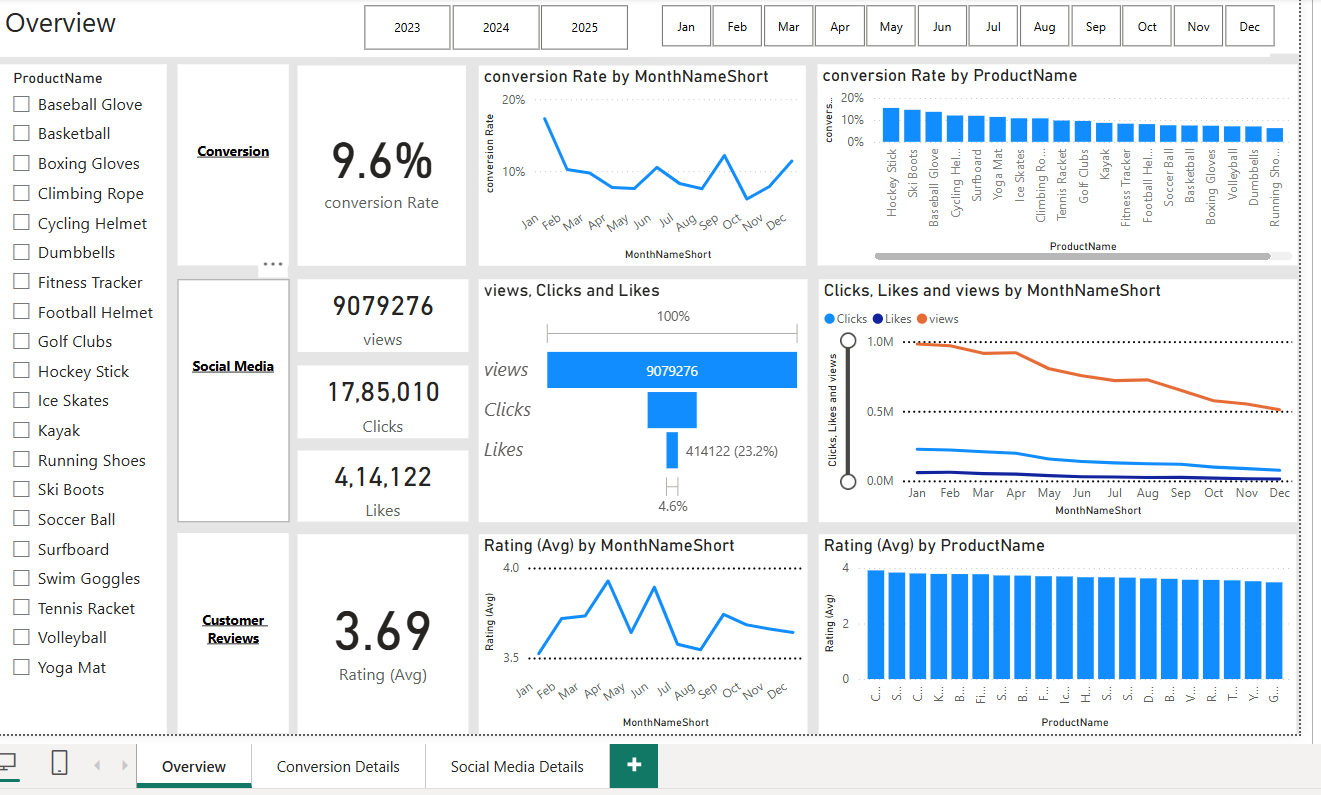

The dashboard page shown, as its layout file describes it:
{"tool":"powerbi","page":{"name":"Overview","canvas":[1280,720],"ordinal":0},"visuals":[{"type":"textbox","box":[9.3,0,1242.6,57.6],"z":0},{"type":"slicer","fields":{"Values":["products.ProductName"]},"box":[9.3,65.4,163.5,655.6],"z":1000},{"type":"textbox","box":[183.4,64.8,108.8,196.9],"z":2000},{"type":"textbox","box":[183.4,275.1,108.8,237.2],"z":3000},{"type":"textbox","box":[183.4,523.4,108.8,195.7],"z":4000},{"type":"card","fields":{"Values":["Calculations.conversion Rate"]},"box":[300.8,66,165.1,195.7],"z":5000},{"type":"card","fields":{"Values":["Calculations.views"]},"box":[300.8,275.1,167.5,70.9],"z":6000},{"type":"card","fields":{"Values":["Calculations.Clicks"]},"box":[300.8,359.5,167.5,70.9],"z":7000},{"type":"card","fields":{"Values":["Calculations.Likes"]},"box":[300.8,442.7,167.5,69.7],"z":8000},{"type":"card","fields":{"Values":["Calculations.Rating (Avg)"]},"box":[300.8,524.6,167.5,195.7],"z":9000},{"type":"slicer","fields":{"Values":["Calendar.Year"]},"box":[339.5,0,308.3,57.6],"z":10000},{"type":"slicer","fields":{"Values":["Calendar.MonthNameShort"]},"box":[630.7,0,649.3,54.5],"z":11000},{"type":"lineChart","fields":{"Y":["Calculations.conversion Rate"],"Category":["Calendar.MonthNameShort"]},"box":[478.1,66,320.4,195.7],"z":12000},{"type":"clusteredColumnChart","fields":{"Category":["products.ProductName"],"Y":["Calculations.conversion Rate"]},"box":[809.5,64.8,469.6,196.9],"z":13000},{"type":"lineChart","fields":{"Category":["Calendar.MonthNameShort"],"Y":["Calculations.Clicks","Calculations.Likes","Calculations.views"]},"box":[810.7,275.1,468.3,237.2],"z":14000},{"type":"funnel","fields":{"Y":["Calculations.views","Calculations.Clicks","Calculations.Likes"]},"box":[478.1,275.1,321.6,237.2],"z":15000},{"type":"lineChart","fields":{"Category":["Calendar.MonthNameShort"],"Y":["Calculations.Rating (Avg)"]},"box":[478.1,524.6,321.6,195.7],"z":16000},{"type":"clusteredColumnChart","fields":{"Category":["products.ProductName"],"Y":["Calculations.Rating (Avg)"]},"box":[810.7,524.6,467.1,195.7],"z":17000}]}

Visuals, with their boxes on the page's 1280x720 design canvas (x1, y1, x2, y2). These are canvas units, not pixel positions in the 1321x795 screenshot, which may show the page scaled, cropped or inside an application window:
textbox: box=[9, 0, 1252, 58]
slicer - products.ProductName: box=[9, 65, 173, 721]
textbox: box=[183, 65, 292, 262]
textbox: box=[183, 275, 292, 512]
textbox: box=[183, 523, 292, 719]
card - Calculations.conversion Rate: box=[301, 66, 466, 262]
card - Calculations.views: box=[301, 275, 468, 346]
card - Calculations.Clicks: box=[301, 360, 468, 430]
card - Calculations.Likes: box=[301, 443, 468, 512]
card - Calculations.Rating (Avg): box=[301, 525, 468, 720]
slicer - Calendar.Year: box=[340, 0, 648, 58]
slicer - Calendar.MonthNameShort: box=[631, 0, 1280, 54]
lineChart - Calculations.conversion Rate x Calendar.MonthNameShort: box=[478, 66, 798, 262]
clusteredColumnChart - products.ProductName x Calculations.conversion Rate: box=[810, 65, 1279, 262]
lineChart - Calendar.MonthNameShort x Calculations.Clicks: box=[811, 275, 1279, 512]
funnel - Calculations.views x Calculations.Clicks: box=[478, 275, 800, 512]
lineChart - Calendar.MonthNameShort x Calculations.Rating (Avg): box=[478, 525, 800, 720]
clusteredColumnChart - products.ProductName x Calculations.Rating (Avg): box=[811, 525, 1278, 720]
